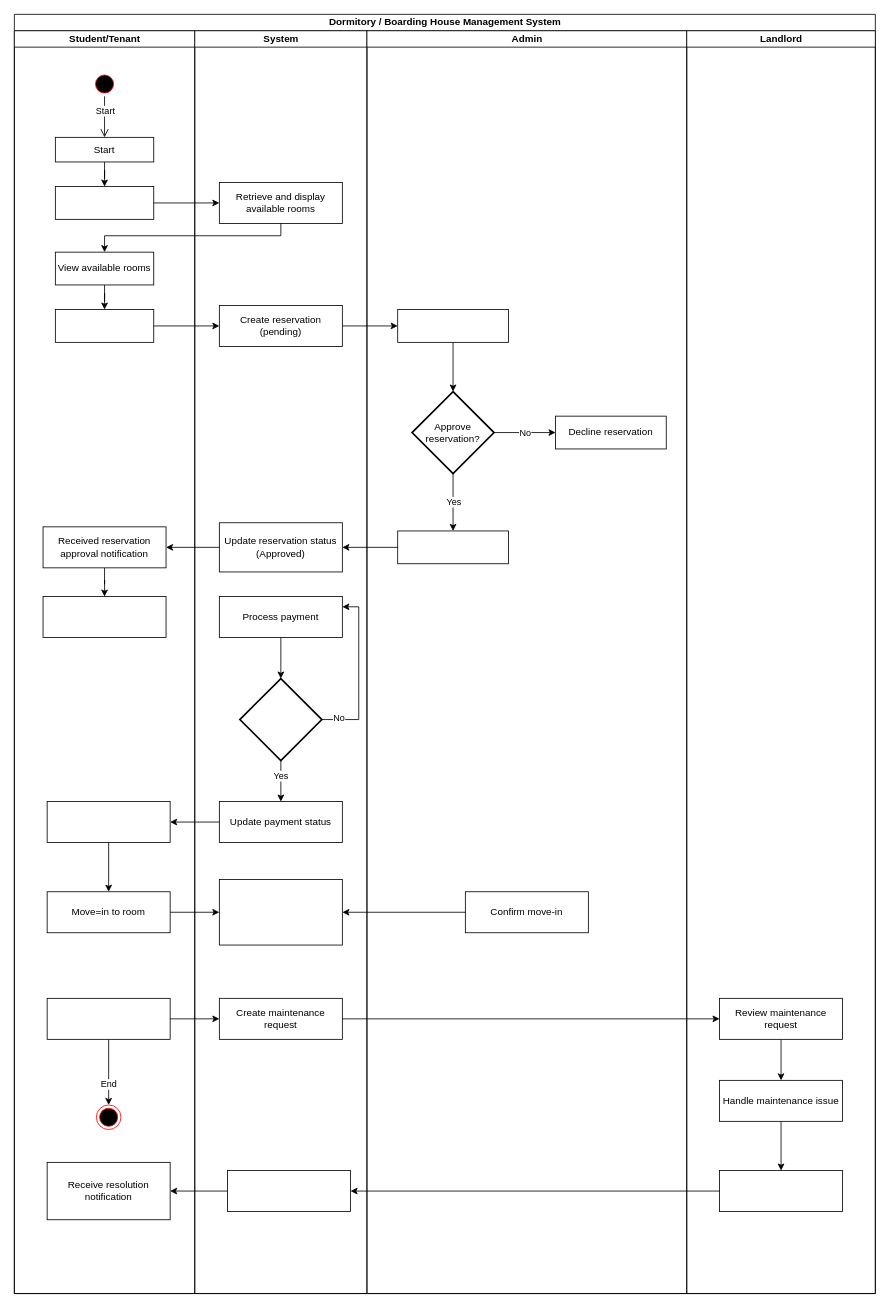
Image size: 890x1308. Some labels were removed from this diagram. Here are the shapes that lost their labels. From the top down, the centre of each, then its label:
pixel 104 202: Browse available rooms
pixel 104 325: Submit room reservation
pixel 452 325: Review reservation request
pixel 452 547: Assign room to tenant
pixel 104 617: Make payment
pixel 280 719: Payment successful?
pixel 108 822: Receive payment confirmation
pixel 280 912: Create lease record and update room status (Occupied)
pixel 108 1018: Report issue (if any)
pixel 289 1191: Notify request resolution to tenant
pixel 781 1191: Update request status
